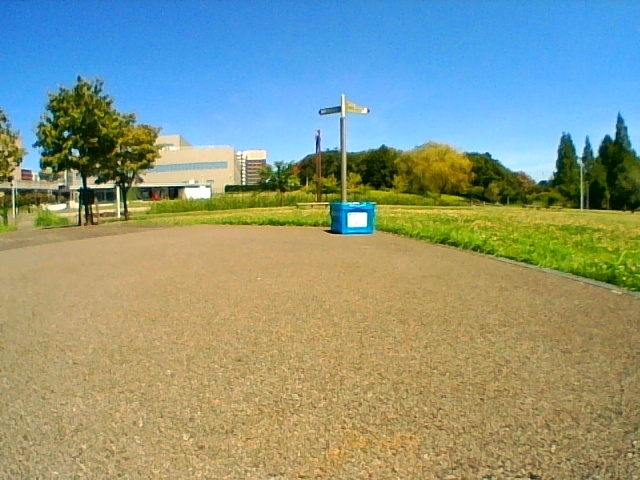blue_box: (332, 202, 375, 233)
tag: (348, 212, 366, 226)
